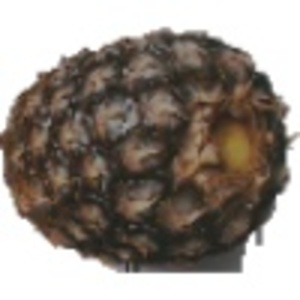abacaxi: (1, 21, 291, 261)
